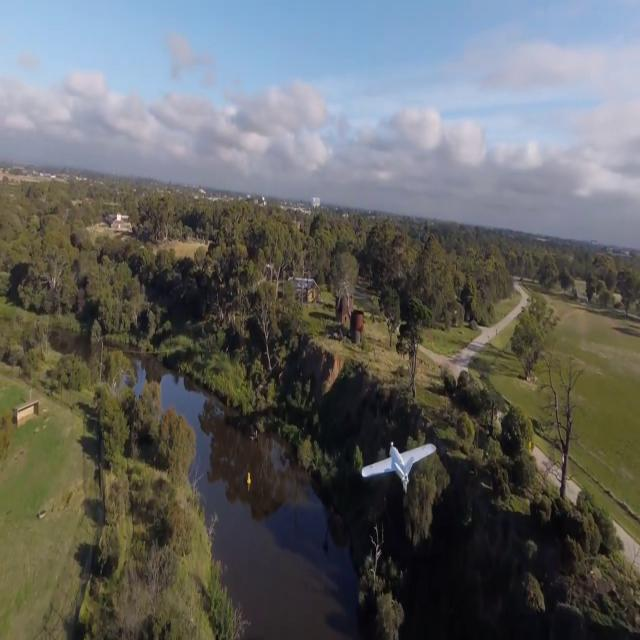iha: (392, 441, 406, 488)
